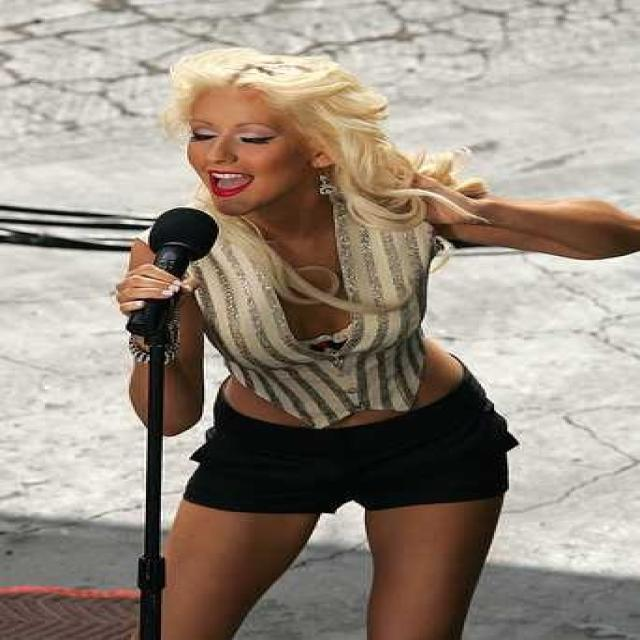microphone: (124, 207, 224, 345)
